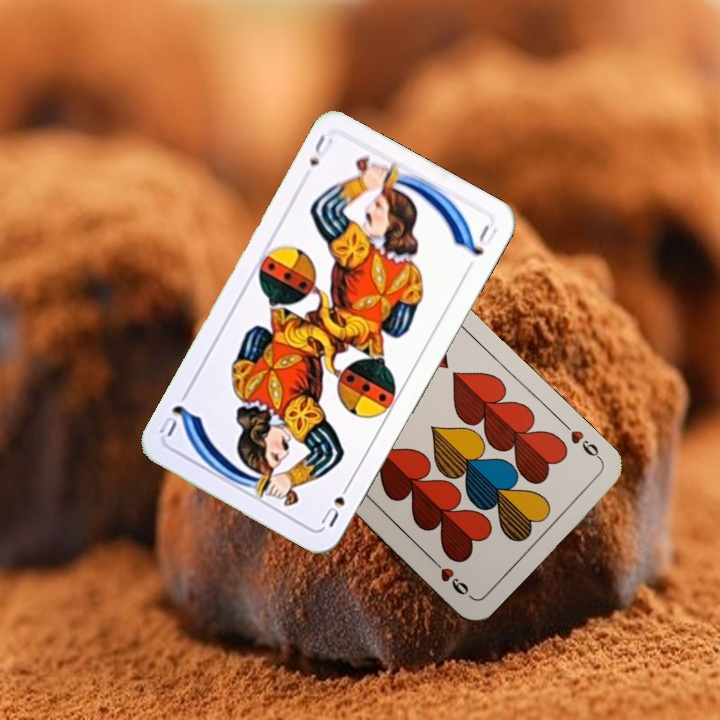H9: (558, 418, 605, 463)
SU: (316, 476, 354, 530), (304, 130, 335, 169)
